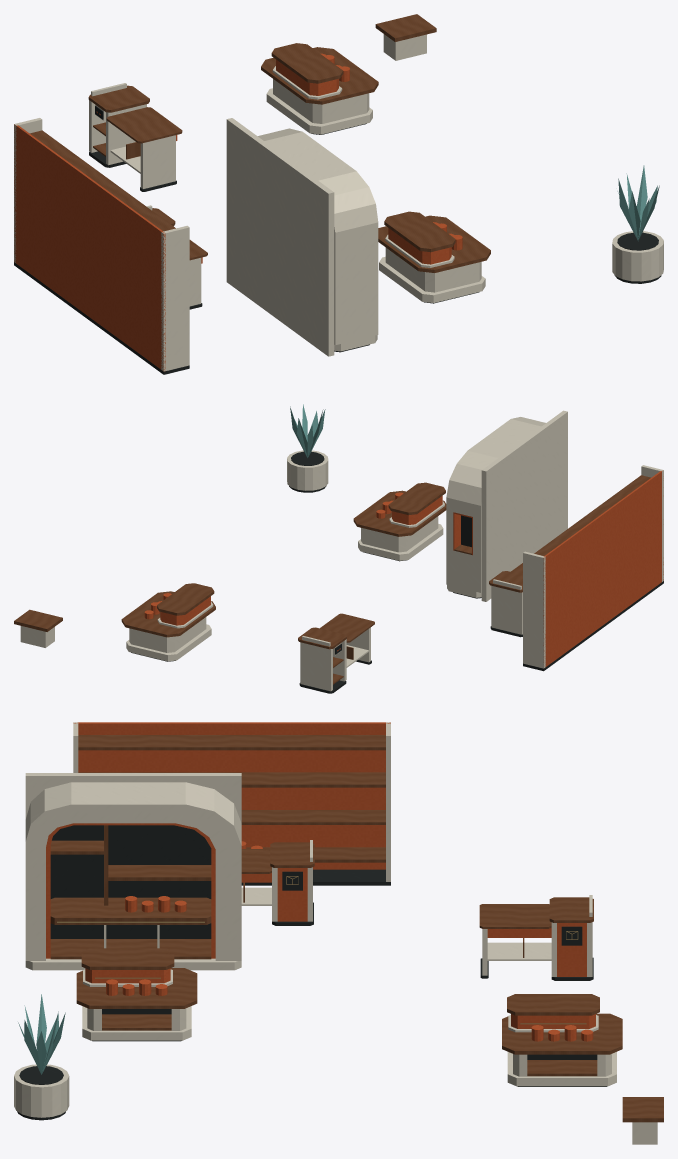
Rendered from SHOP_D09_P100_A106__fitout.glb.
3 views of the same model, one above another, from view 1: azimuth 30°, elevation 25°; view 2: azimuth 150°, elevation 25°; view 3: azimuth 270°, elevation 25° (orthographic). The views are drawn at different scales.
Visible parts, largest first — view 1: SHOP_D09_P100_A106__fitout__ivory_enamel, SHOP_D09_P100_A106__fitout__retail_terracotta_enamel, SHOP_D09_P100_A106__fitout__warm_walnut, SHOP_D09_P100_A106__fitout__dark_rubber, SHOP_D09_P100_A106__fitout__quiet_teal; view 2: SHOP_D09_P100_A106__fitout__ivory_enamel, SHOP_D09_P100_A106__fitout__retail_terracotta_enamel, SHOP_D09_P100_A106__fitout__warm_walnut, SHOP_D09_P100_A106__fitout__dark_rubber, SHOP_D09_P100_A106__fitout__quiet_teal; view 3: SHOP_D09_P100_A106__fitout__warm_walnut, SHOP_D09_P100_A106__fitout__ivory_enamel, SHOP_D09_P100_A106__fitout__retail_terracotta_enamel, SHOP_D09_P100_A106__fitout__dark_rubber, SHOP_D09_P100_A106__fitout__quiet_teal, SHOP_D09_P100_A106__fitout__champagne_metal.
Boxes of the visible parts, left/top/right/bottom form: SHOP_D09_P100_A106__fitout__ivory_enamel: left=14, top=34, right=663, bottom=371; SHOP_D09_P100_A106__fitout__retail_terracotta_enamel: left=14, top=53, right=462, bottom=371; SHOP_D09_P100_A106__fitout__warm_walnut: left=30, top=14, right=490, bottom=272; SHOP_D09_P100_A106__fitout__dark_rubber: left=14, top=106, right=661, bottom=374; SHOP_D09_P100_A106__fitout__quiet_teal: left=617, top=165, right=659, bottom=240; SHOP_D09_P100_A106__fitout__ivory_enamel: left=20, top=410, right=663, bottom=691; SHOP_D09_P100_A106__fitout__retail_terracotta_enamel: left=144, top=471, right=663, bottom=666; SHOP_D09_P100_A106__fitout__warm_walnut: left=14, top=475, right=650, bottom=684; SHOP_D09_P100_A106__fitout__dark_rubber: left=131, top=451, right=663, bottom=693; SHOP_D09_P100_A106__fitout__quiet_teal: left=290, top=404, right=325, bottom=457; SHOP_D09_P100_A106__fitout__warm_walnut: left=50, top=735, right=663, bottom=1122; SHOP_D09_P100_A106__fitout__ivory_enamel: left=14, top=722, right=657, bottom=1144; SHOP_D09_P100_A106__fitout__retail_terracotta_enamel: left=46, top=722, right=595, bottom=1041; SHOP_D09_P100_A106__fitout__dark_rubber: left=17, top=825, right=607, bottom=1120; SHOP_D09_P100_A106__fitout__quiet_teal: left=18, top=994, right=65, bottom=1074; SHOP_D09_P100_A106__fitout__champagne_metal: left=57, top=876, right=586, bottom=1024.
Size of the model in its own units: 10.25 by 3 by 10.24.
6 materials, 5 textured.
